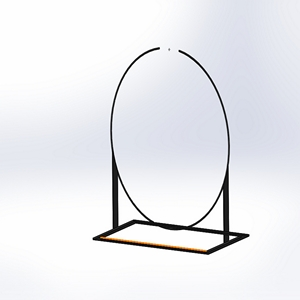circle: (92, 45, 251, 256)
